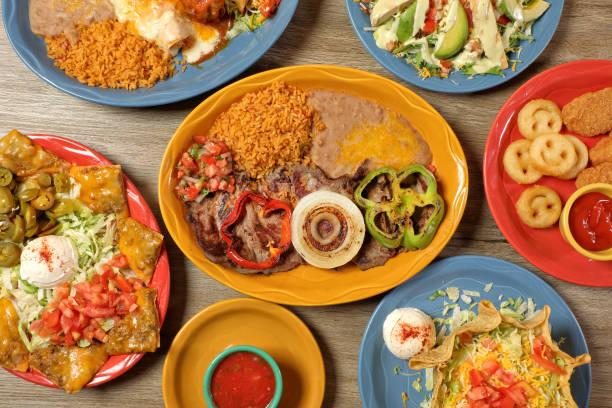Braised Crucian Carp: (159, 63, 456, 305), (2, 132, 171, 387), (355, 255, 589, 408), (4, 0, 299, 106), (482, 57, 607, 286), (343, 0, 563, 94)
